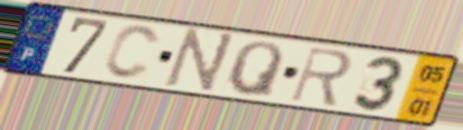3: (352, 53, 407, 114)
7: (62, 14, 110, 75)
C: (101, 23, 162, 83)
N: (160, 27, 239, 96)
Q: (224, 39, 287, 101)
R: (287, 44, 354, 109)
